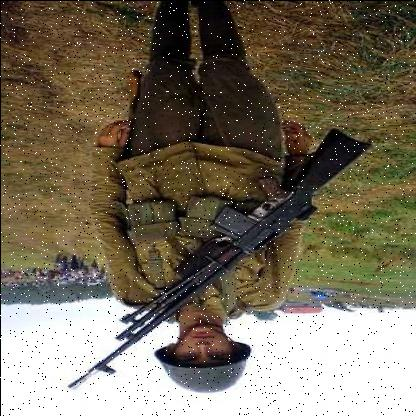rifle: (55, 126, 370, 404)
